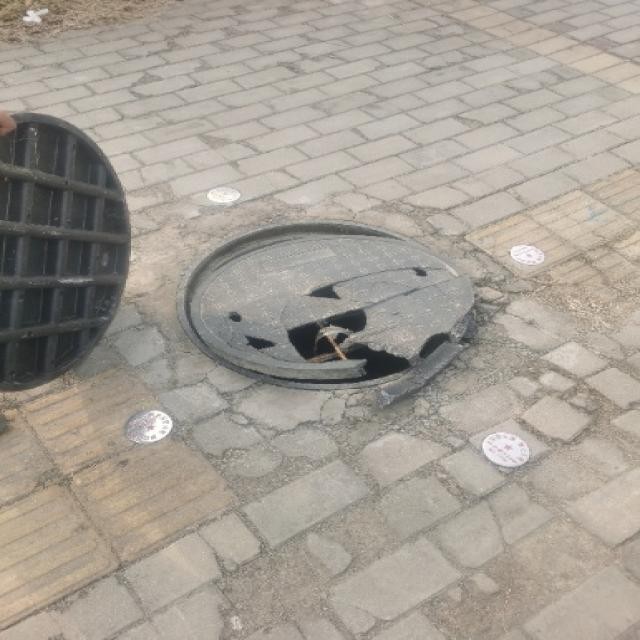Broken: (172, 198, 488, 418)
